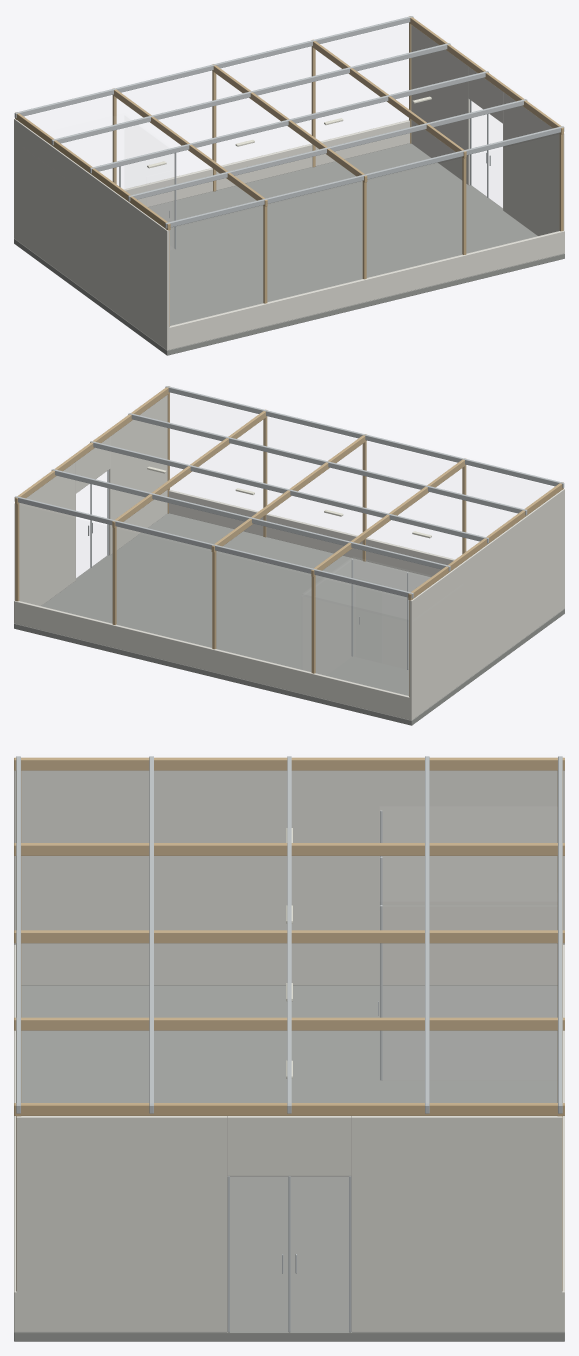
The model's file is candlemaking-and-soap-workshop-roofed-craft-workshop-61ef1ace__30646.glb.
3 renders of one model, top to bottom at view 1: azimuth 30°, elevation 25°; view 2: azimuth 150°, elevation 25°; view 3: azimuth 270°, elevation 25°, orthographic. The views are drawn at different scales.
Visible parts, largest first — view 1: roofed-craft-workshop; view 2: roofed-craft-workshop; view 3: roofed-craft-workshop.
Part boxes in pixels (x1,y1,x2,y2): roofed-craft-workshop: [14, 16, 564, 355]; roofed-craft-workshop: [14, 386, 564, 725]; roofed-craft-workshop: [14, 756, 564, 1341].
Size of the model in its own units: 12.02 by 3.82 by 8.
